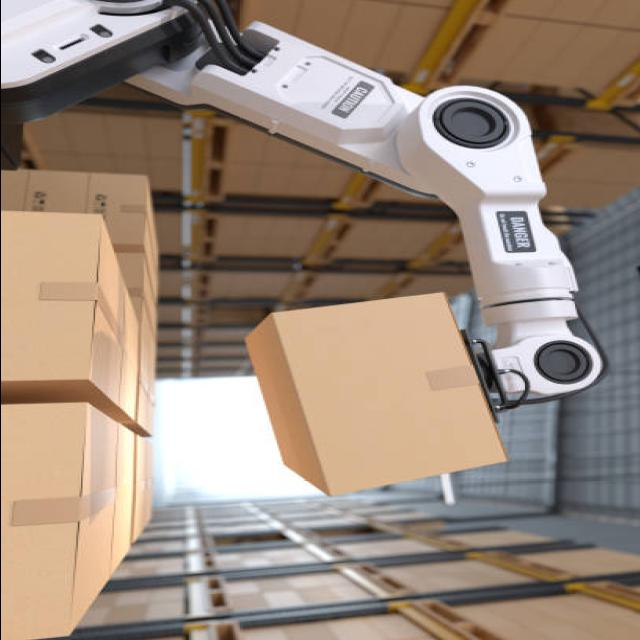Robotic-arm: (0, 0, 614, 410)
